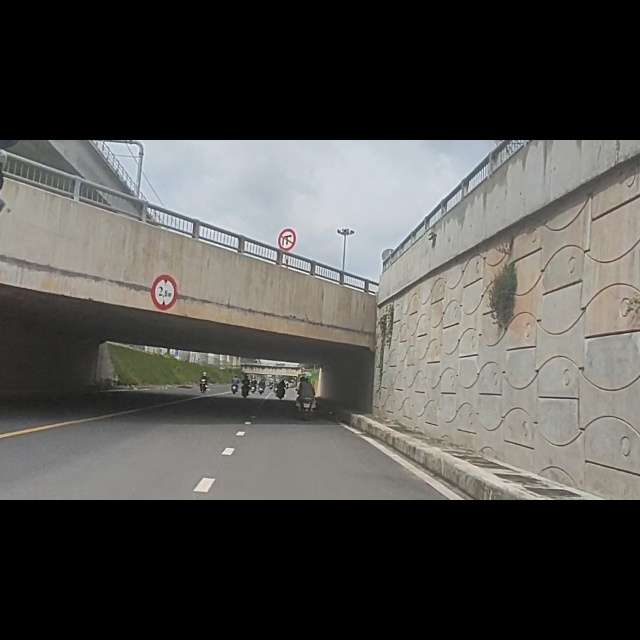bien_cam: (150, 239, 180, 305), (279, 156, 297, 198)
